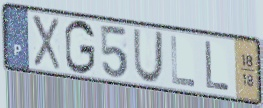5: (99, 23, 130, 80)
G: (63, 18, 97, 77)
L: (203, 39, 232, 93), (169, 34, 197, 89)
U: (132, 27, 165, 85)
X: (30, 13, 63, 73)
